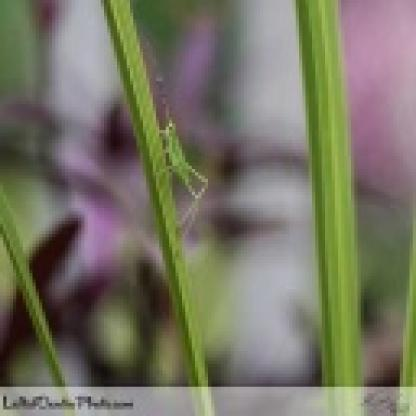grasshopper: (157, 106, 211, 235)
